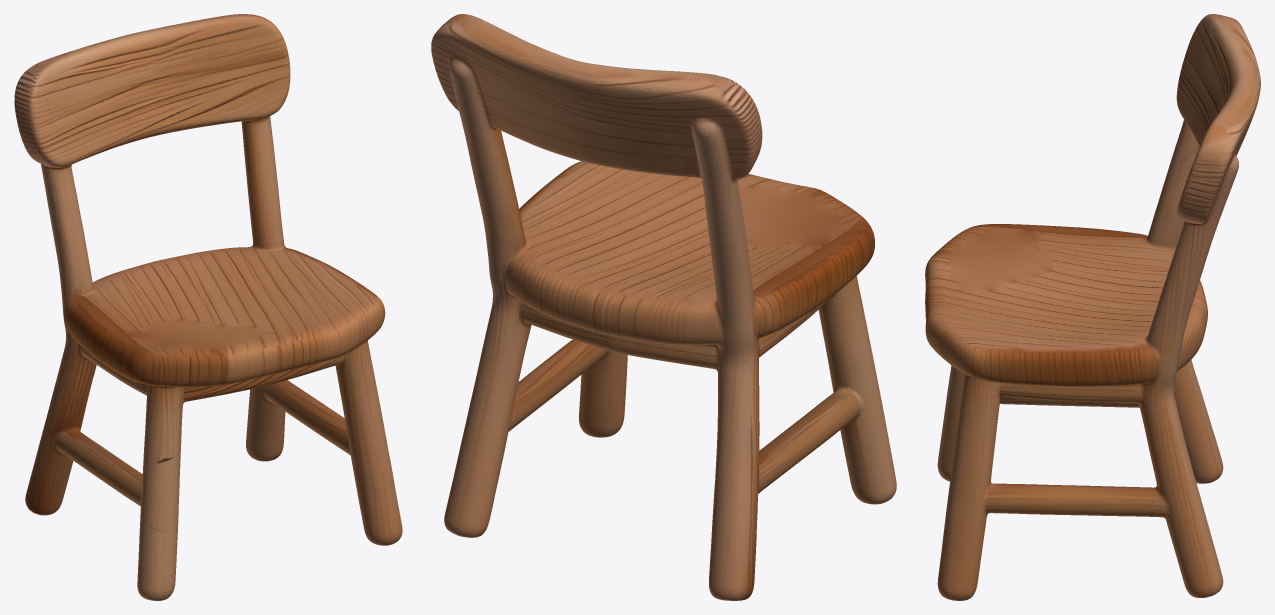
3 renders of one model, left to right at view 1: azimuth 30°, elevation 25°; view 2: azimuth 150°, elevation 25°; view 3: azimuth 270°, elevation 25°, orthographic. The views are drawn at different scales.
Visible parts, largest first — view 1: texture_pbr_v128; view 2: texture_pbr_v128; view 3: texture_pbr_v128.
Boxes of the visible parts, x1,y1,x2,y2 form: texture_pbr_v128: [14, 14, 402, 600]; texture_pbr_v128: [431, 14, 896, 600]; texture_pbr_v128: [925, 14, 1260, 600].
Bounding box in the file's own units: 0.5906 × 0.936 × 0.6084.
Materials: 1 (1 with a texture image).
